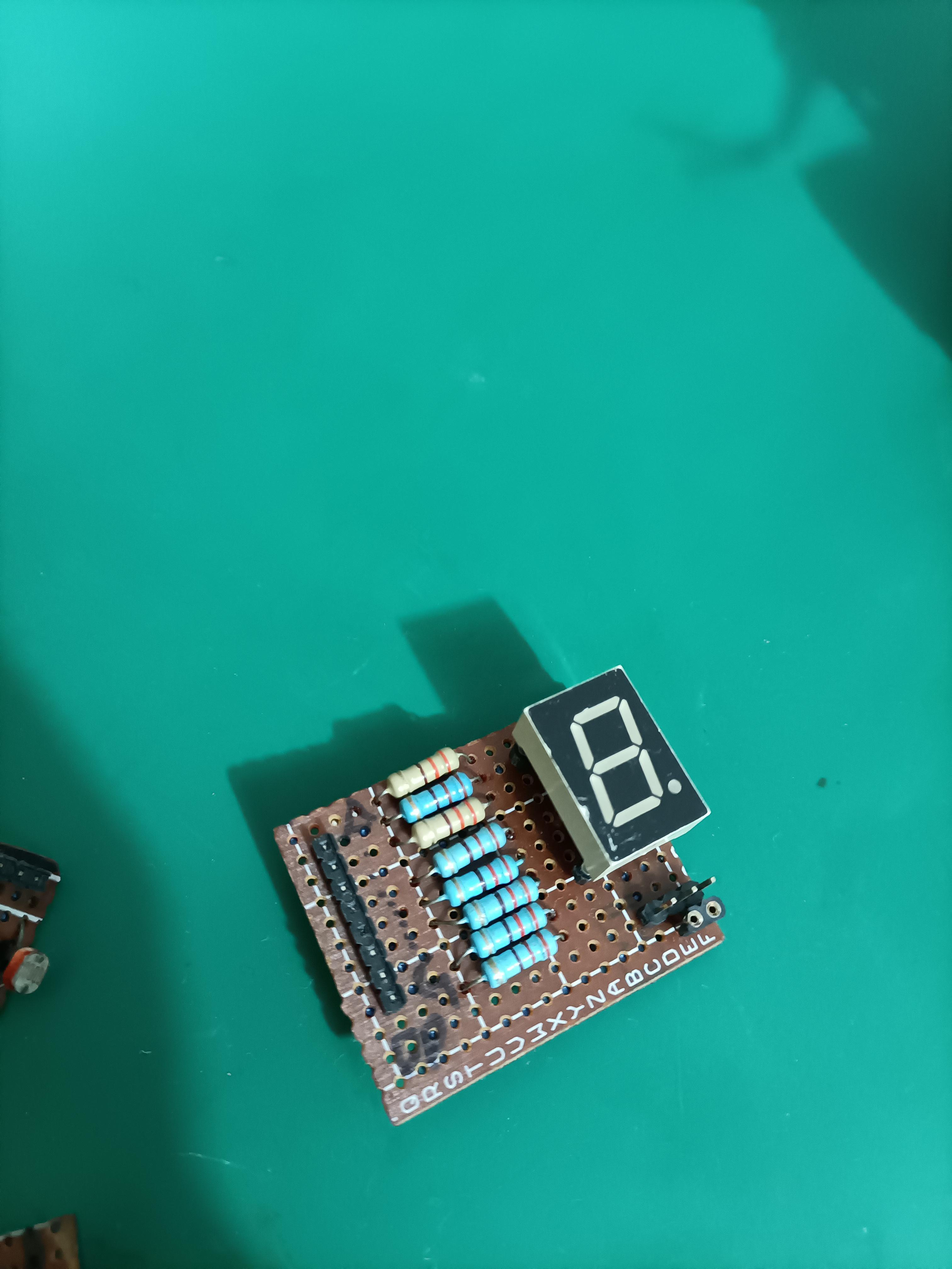Resistencia: (375, 807, 487, 839), (436, 916, 548, 948), (394, 831, 506, 862), (407, 858, 519, 889), (458, 969, 570, 1000), (421, 890, 532, 921), (445, 939, 556, 970), (362, 780, 473, 811)
